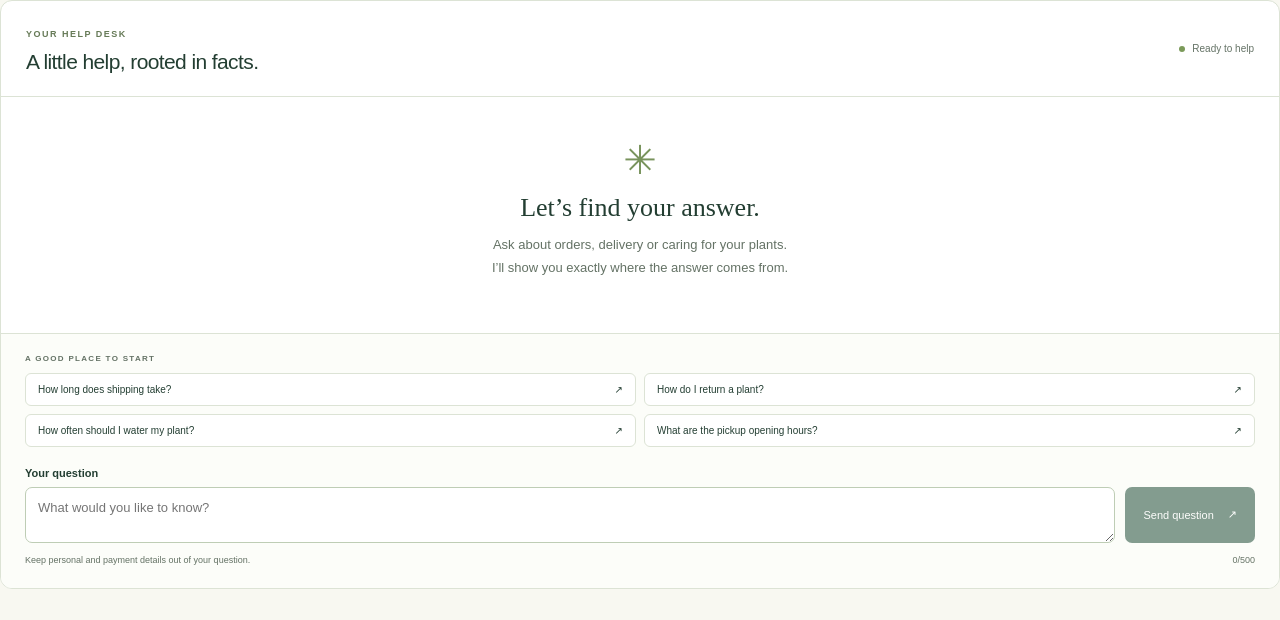
Test: sends, progressively renders an answer and displays sources
This screenshot has width=1280, height=620.
Click the button "How long does shipping take? ↗". click: (105, 389)
box: [25,373,636,406]
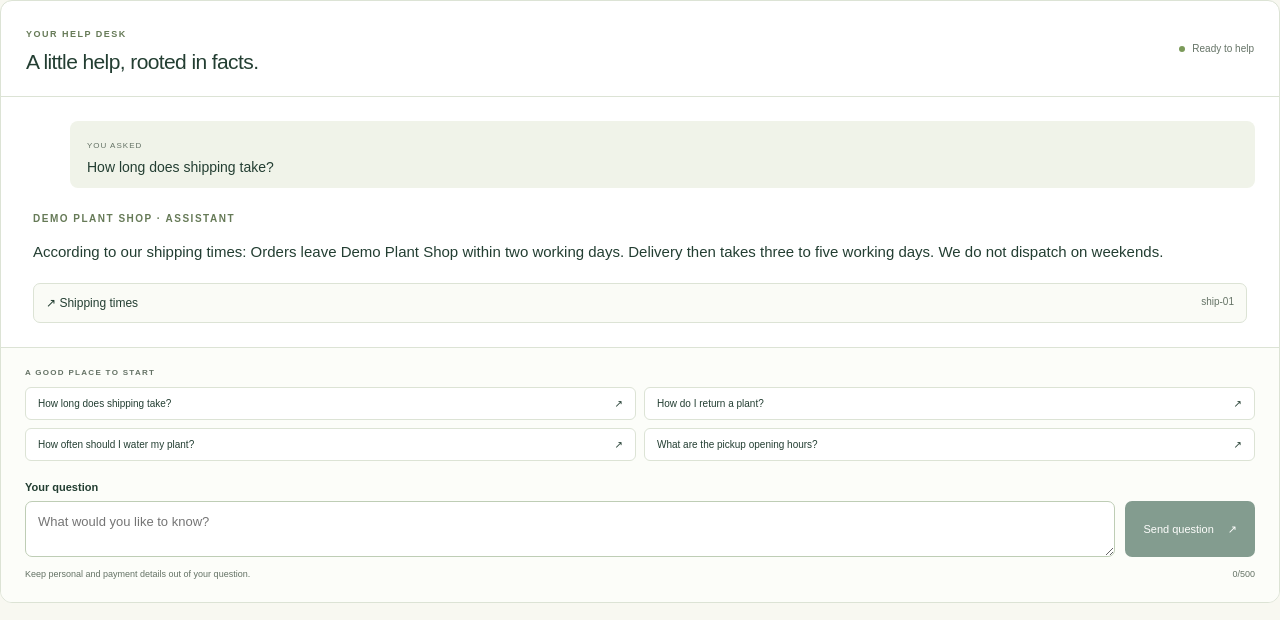
Check: the text with test id "answer" shows "According", box [33,243,1163,260]
Check: the text "ship-01" is shown, box [1201,296,1234,310]
Check: the text with test id "answer" shows "within two working days", box [33,243,1163,260]
